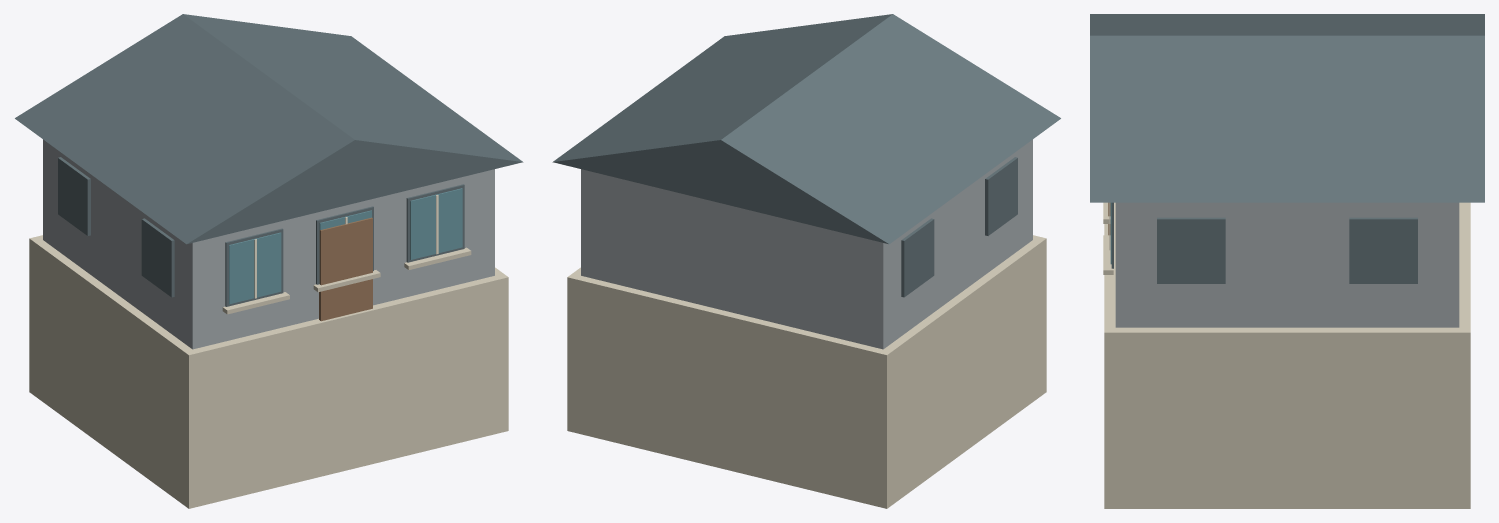
The model's file is warehouse-0.glb.
The picture shows the model from 3 angles, left to right: view 1: azimuth 30°, elevation 25°; view 2: azimuth 150°, elevation 25°; view 3: azimuth 270°, elevation 25°; orthographic projection. The views are drawn at different scales.
Bounding box in the file's own units: 1.95 × 1.85 × 1.73.
